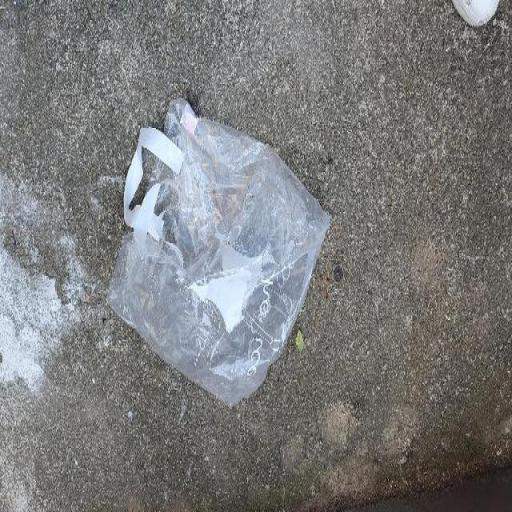plastic-bag: (104, 95, 334, 405)
